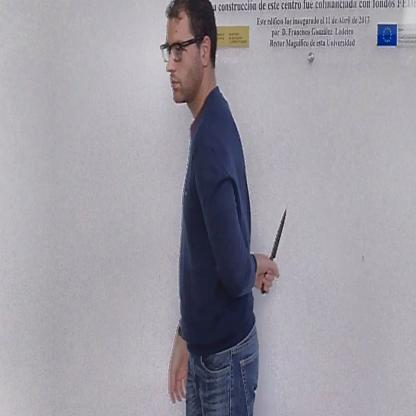knife: (258, 198, 290, 300)
